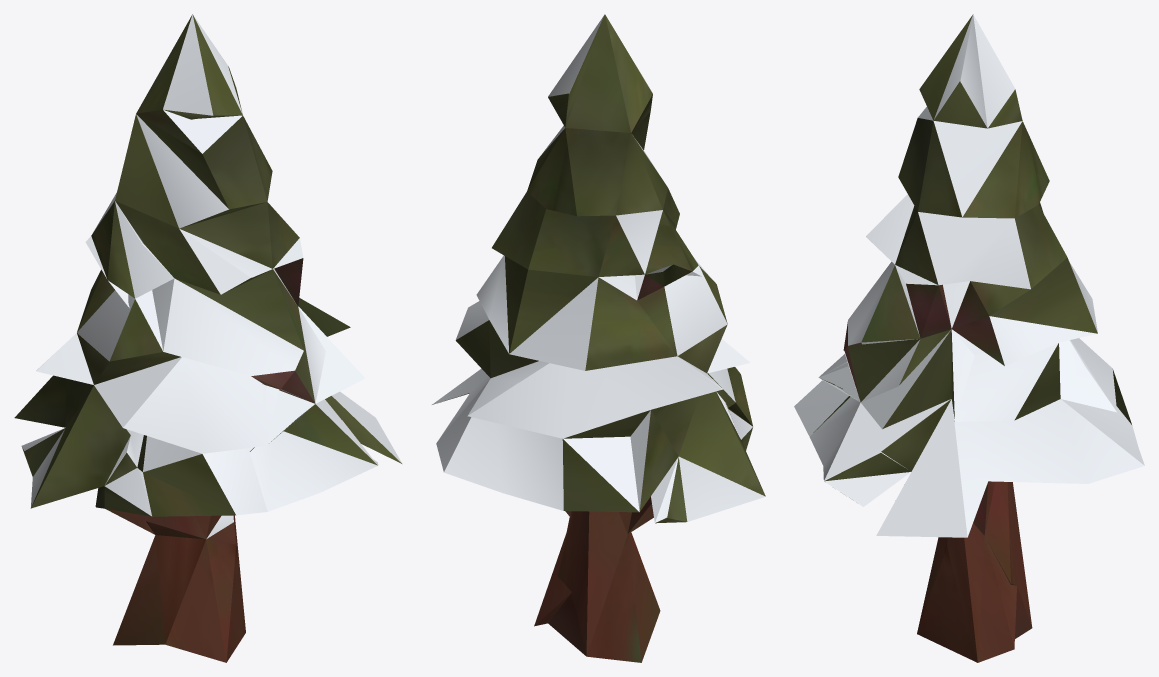
The model's file is bg_snow_pine_3_lod1.glb.
3 views of the same model, side by side, from view 1: azimuth 30°, elevation 25°; view 2: azimuth 150°, elevation 25°; view 3: azimuth 270°, elevation 25° (orthographic). The views are drawn at different scales.
Parts seen in each view (by area): view 1: sway, body; view 2: sway, body; view 3: sway, body.
Boxes of the visible parts, x1,y1,x2,y2 form: sway: (14, 14, 402, 516); body: (105, 258, 314, 662); sway: (432, 14, 765, 523); body: (534, 275, 677, 662); sway: (794, 14, 1144, 537); body: (843, 281, 1032, 662).
Bounding box in the file's own units: 2.48 × 4.38 × 2.24.
2 materials, 1 textured.
